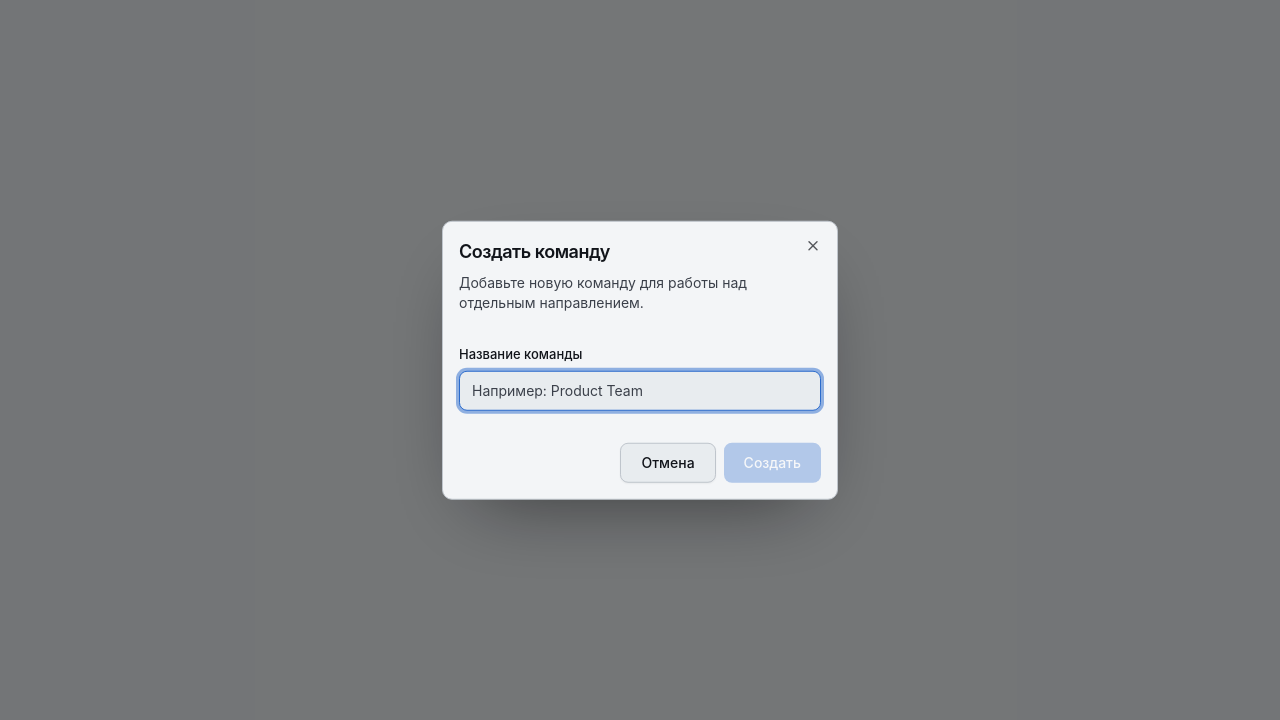
Test: CreateTeamDialog › кнопка "Создать" активна при заполненном поле
This screenshot has width=1280, height=720.
Type "Design Team" into the field with placeholder "Например: Product Team".
click(640, 390); type("Design Team")  # box [459, 370, 821, 410]
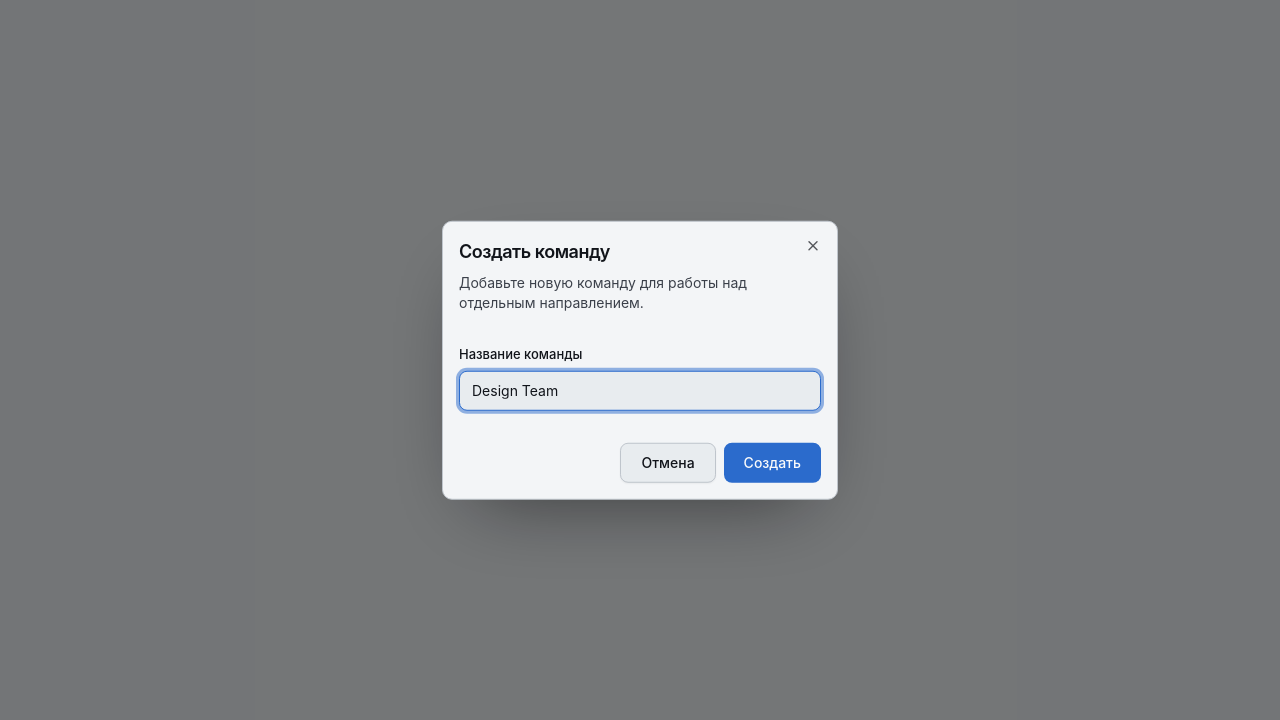
Check: the button "Создать" is enabled, box [724, 442, 821, 482]
